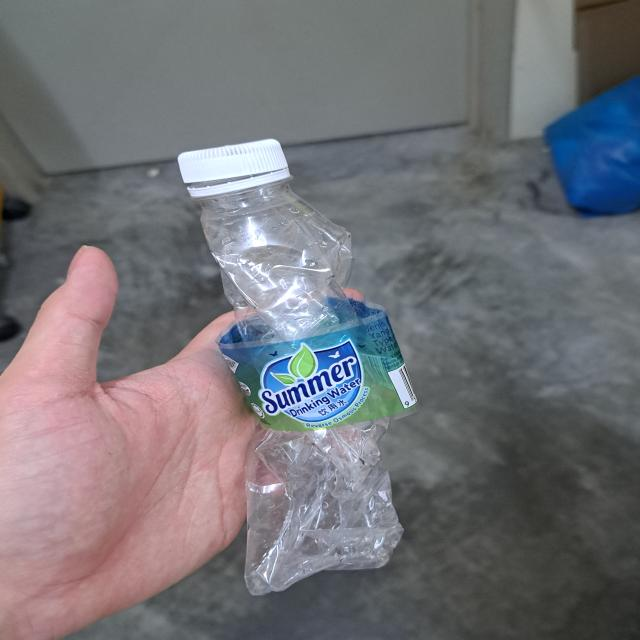plastic bag: (548, 72, 640, 214)
plastic bottle: (167, 189, 423, 588)
plastic bottle cap: (174, 139, 298, 192)
